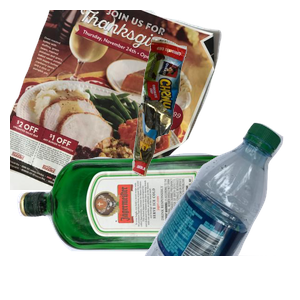glass: (14, 150, 247, 300)
paper: (10, 10, 224, 190)
plastic: (142, 120, 300, 300)
trash: (130, 34, 300, 203)
